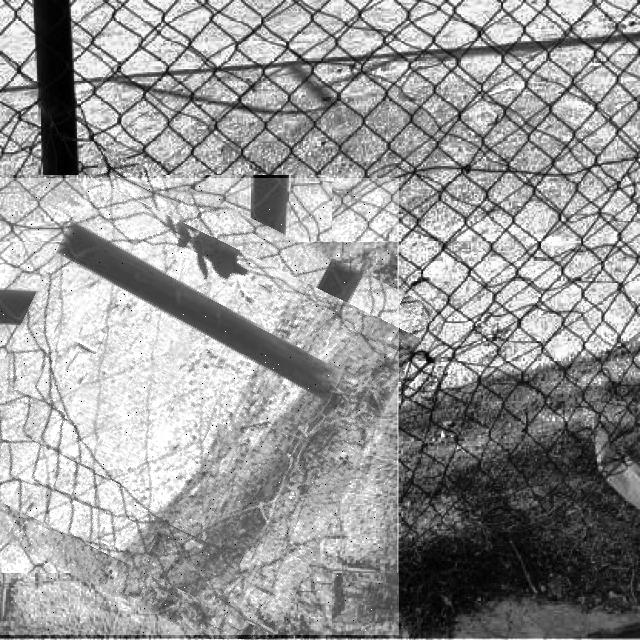anomaly-fence: (0, 178, 399, 635)
